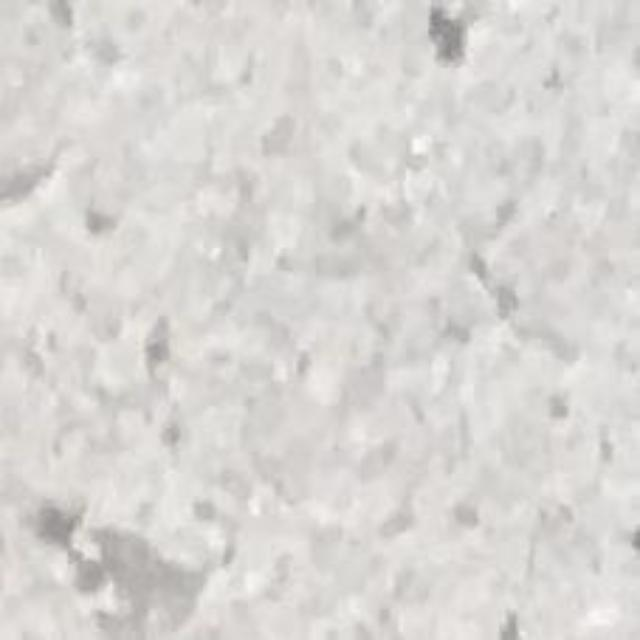peeling plaster: (65, 528, 208, 639)
